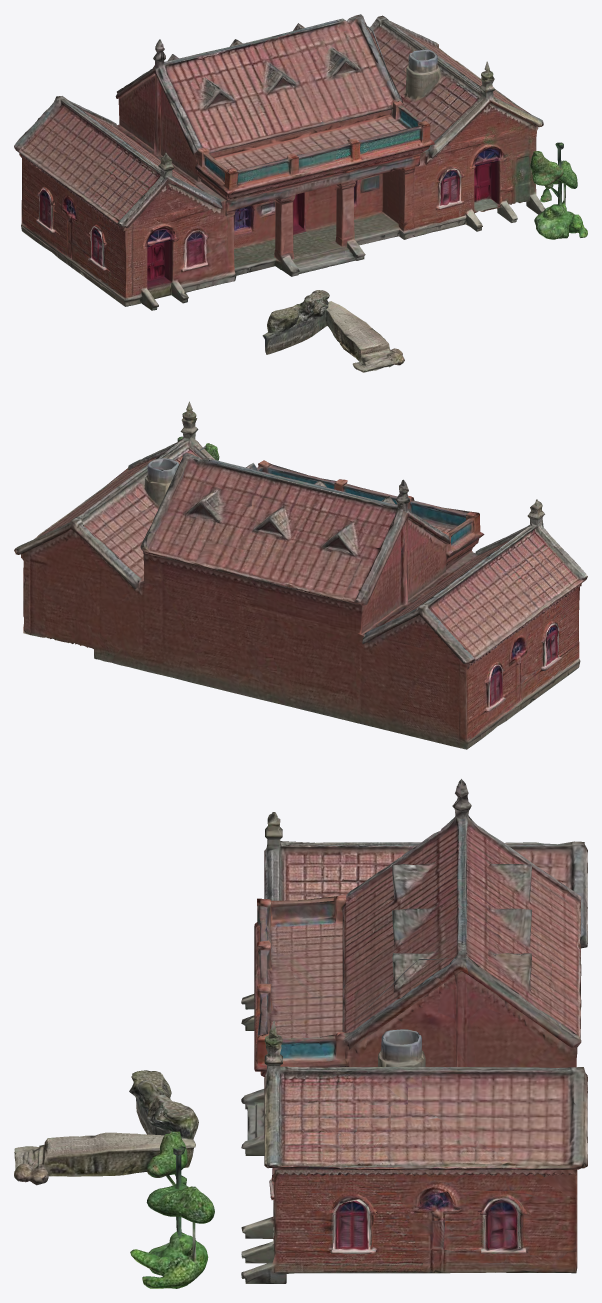
The model's file is oxford.glb.
3 views of the same model, one above another, from view 1: azimuth 30°, elevation 25°; view 2: azimuth 150°, elevation 25°; view 3: azimuth 270°, elevation 25° (orthographic). The views are drawn at different scales.
Parts seen in each view (by area): view 1: tripo_node_2750561a-0997-4c31-99b6-2a777be4789e; view 2: tripo_node_2750561a-0997-4c31-99b6-2a777be4789e; view 3: tripo_node_2750561a-0997-4c31-99b6-2a777be4789e.
Part boxes in pixels (x1,y1,x2,y2): tripo_node_2750561a-0997-4c31-99b6-2a777be4789e: (14, 14, 587, 372); tripo_node_2750561a-0997-4c31-99b6-2a777be4789e: (14, 401, 587, 749); tripo_node_2750561a-0997-4c31-99b6-2a777be4789e: (14, 779, 587, 1288).
Size of the model in its own units: 0.9829 by 0.5157 by 0.7874.
Materials: 1 (1 with a texture image).
